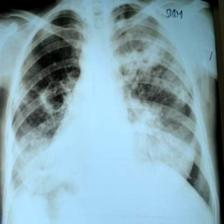tuberculosis: (1, 4, 213, 224)
